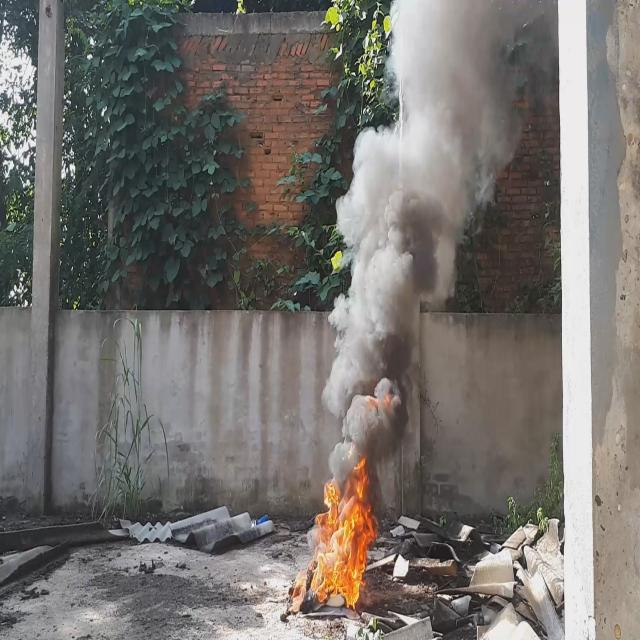Fire: (310, 451, 380, 614)
Smoke: (323, 0, 525, 484)
